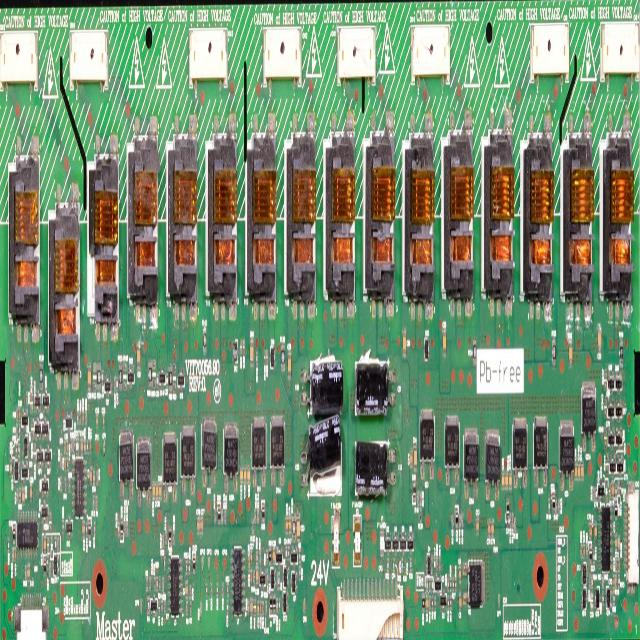Capacitor: (306, 422, 342, 496), (354, 444, 394, 502), (355, 362, 396, 416), (307, 359, 344, 418), (442, 328, 447, 356), (402, 328, 407, 354), (136, 346, 141, 372), (597, 324, 601, 356), (288, 352, 292, 382), (413, 444, 418, 468), (486, 517, 491, 539), (490, 517, 495, 538), (296, 519, 301, 540), (87, 364, 91, 390), (250, 338, 254, 362), (569, 344, 573, 368), (409, 448, 413, 471), (184, 579, 188, 600), (504, 468, 508, 488), (590, 591, 594, 610), (610, 482, 615, 497), (508, 472, 512, 490), (475, 516, 479, 534), (284, 517, 288, 535), (42, 534, 46, 552), (425, 592, 429, 610), (151, 483, 155, 500), (155, 483, 159, 500), (196, 516, 200, 533), (288, 518, 292, 535), (588, 522, 592, 539), (8, 458, 12, 474), (614, 531, 618, 547), (458, 593, 462, 609), (26, 562, 29, 582), (458, 567, 462, 582), (226, 598, 230, 613), (239, 466, 243, 480), (574, 458, 577, 476), (89, 466, 92, 484), (82, 518, 85, 536), (29, 484, 32, 501), (272, 546, 275, 563), (100, 368, 103, 384), (102, 412, 105, 428), (243, 468, 246, 484), (22, 488, 25, 504), (285, 548, 288, 564), (438, 555, 441, 571), (247, 467, 250, 482), (431, 576, 434, 591), (250, 599, 253, 614), (256, 601, 259, 615), (502, 470, 504, 490), (612, 574, 615, 587), (82, 412, 85, 424), (95, 414, 98, 426), (578, 460, 580, 478), (436, 552, 438, 570), (242, 340, 244, 356), (156, 372, 158, 388), (166, 374, 168, 390), (66, 438, 68, 454), (581, 462, 583, 478), (159, 481, 161, 497), (256, 566, 258, 582), (89, 442, 92, 452), (594, 522, 596, 537), (54, 537, 56, 552), (583, 544, 585, 559), (266, 350, 268, 364), (18, 408, 20, 422), (84, 440, 86, 454), (14, 546, 16, 560), (64, 456, 66, 469), (250, 550, 252, 563), (618, 560, 620, 573), (161, 602, 163, 615), (116, 378, 118, 390), (260, 603, 262, 615), (200, 518, 202, 529), (250, 572, 252, 583), (248, 557, 250, 566)
IC: (231, 544, 245, 619), (598, 505, 613, 572), (17, 512, 37, 559), (168, 555, 182, 618), (72, 457, 86, 518), (468, 557, 484, 608)
Resistor Network: (551, 338, 557, 370), (618, 340, 624, 370), (172, 364, 176, 394), (119, 362, 123, 391), (123, 362, 127, 391), (97, 364, 101, 392), (92, 364, 96, 392), (168, 364, 172, 392), (152, 362, 156, 389), (148, 360, 152, 386), (39, 364, 43, 390), (547, 496, 551, 521), (292, 517, 296, 542), (203, 328, 207, 352), (603, 394, 607, 418), (605, 454, 609, 476), (280, 344, 284, 364), (604, 428, 608, 448), (617, 532, 621, 550), (268, 547, 272, 565), (421, 591, 425, 609), (511, 509, 514, 531), (424, 576, 428, 592), (33, 442, 36, 462), (614, 480, 618, 495), (417, 488, 420, 508), (95, 492, 98, 512), (126, 519, 129, 539), (592, 544, 595, 564), (386, 556, 390, 571), (409, 553, 412, 573), (449, 595, 452, 615), (509, 511, 512, 530), (604, 370, 607, 388), (31, 418, 34, 436), (433, 552, 436, 570), (612, 588, 615, 606), (147, 597, 150, 615), (239, 339, 242, 356), (419, 490, 422, 507), (458, 512, 461, 529), (513, 516, 516, 533), (7, 537, 10, 554), (252, 570, 255, 587), (277, 570, 280, 587), (158, 575, 161, 592), (226, 581, 229, 598), (205, 581, 208, 598), (263, 348, 266, 364), (70, 436, 73, 452), (18, 487, 21, 503), (419, 509, 422, 525), (392, 556, 395, 572), (409, 557, 412, 573), (24, 563, 27, 579), (447, 578, 450, 594), (216, 582, 219, 598), (446, 595, 449, 611), (186, 601, 189, 617), (15, 422, 18, 437), (15, 442, 18, 457), (59, 477, 62, 492), (592, 487, 595, 502), (400, 557, 403, 572), (298, 567, 301, 582), (30, 390, 32, 412), (450, 573, 452, 595), (255, 352, 258, 366), (78, 412, 81, 426), (96, 468, 98, 489), (224, 508, 227, 522), (602, 590, 604, 611), (431, 593, 433, 614), (461, 511, 463, 531), (62, 517, 64, 537), (452, 574, 454, 594), (454, 574, 456, 594), (429, 592, 431, 612), (172, 531, 175, 544), (165, 531, 168, 544), (428, 577, 431, 590), (189, 602, 192, 615), (276, 597, 278, 616), (25, 392, 28, 404), (92, 494, 94, 512), (555, 497, 557, 515), (214, 509, 217, 521), (266, 547, 268, 565), (259, 549, 261, 567), (156, 574, 158, 592), (188, 586, 191, 598), (16, 488, 18, 505), (580, 543, 582, 560), (158, 599, 160, 616), (164, 599, 166, 616), (265, 599, 267, 616), (18, 422, 20, 438), (18, 442, 20, 458), (60, 452, 62, 468), (93, 470, 95, 486), (558, 498, 560, 514), (254, 508, 256, 524), (86, 521, 88, 537), (118, 521, 120, 537), (162, 532, 164, 548), (56, 536, 58, 552), (585, 542, 587, 558), (288, 545, 290, 561), (266, 567, 268, 583), (211, 581, 213, 597), (434, 596, 436, 612), (200, 602, 202, 618), (76, 412, 78, 427), (64, 439, 66, 454), (68, 479, 70, 494), (298, 550, 300, 565), (256, 550, 258, 565), (149, 576, 151, 591), (161, 576, 163, 591), (278, 599, 280, 614), (73, 438, 75, 452), (86, 438, 88, 452), (64, 477, 66, 491), (617, 480, 619, 494), (257, 508, 259, 522), (591, 573, 593, 587), (615, 575, 617, 589), (146, 576, 148, 590), (154, 577, 156, 591), (221, 580, 223, 594), (12, 547, 14, 560), (615, 559, 617, 572), (188, 560, 190, 573), (185, 561, 187, 574), (618, 575, 620, 588), (254, 602, 256, 615), (16, 408, 18, 420), (220, 509, 222, 521), (251, 522, 253, 534), (452, 512, 453, 531), (124, 519, 125, 538), (262, 603, 264, 612), (94, 521, 95, 536), (49, 563, 50, 576), (114, 378, 115, 390)
Transistor: (444, 416, 460, 470), (223, 422, 239, 476), (180, 424, 196, 478), (463, 428, 479, 482), (532, 416, 548, 469), (558, 420, 574, 472), (512, 418, 528, 469), (581, 382, 596, 434), (136, 436, 151, 488), (485, 428, 500, 479), (270, 416, 284, 468), (252, 418, 266, 470), (163, 432, 177, 484), (420, 411, 434, 462), (202, 418, 216, 468), (119, 430, 133, 480), (291, 568, 297, 599), (289, 548, 299, 565), (606, 585, 612, 613), (433, 575, 442, 593), (282, 589, 288, 616), (40, 503, 50, 519), (607, 399, 615, 418), (426, 553, 432, 576), (597, 482, 605, 499), (260, 570, 267, 589), (614, 372, 622, 388), (614, 404, 623, 418), (616, 458, 623, 476), (270, 566, 275, 591), (606, 432, 614, 447), (282, 565, 287, 589), (581, 584, 586, 608), (595, 586, 600, 610), (42, 420, 49, 436), (44, 448, 51, 464), (41, 477, 48, 493), (276, 548, 284, 562), (440, 590, 447, 606), (150, 598, 158, 612), (616, 428, 622, 446), (610, 460, 616, 478), (24, 432, 28, 458), (608, 374, 614, 391), (42, 392, 49, 406), (35, 422, 42, 436), (582, 561, 586, 585), (22, 414, 29, 426), (37, 448, 43, 462), (54, 557, 58, 578), (35, 396, 41, 408), (21, 468, 28, 478), (15, 460, 18, 480)
